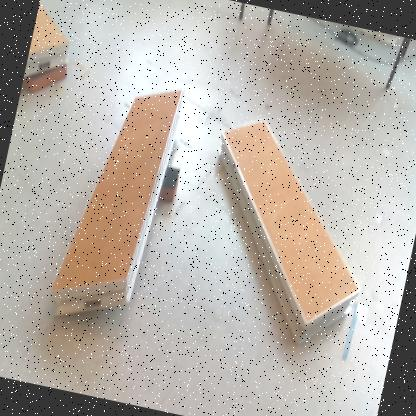Stairs: (218, 119, 360, 348), (49, 89, 186, 320), (25, 1, 70, 77)
